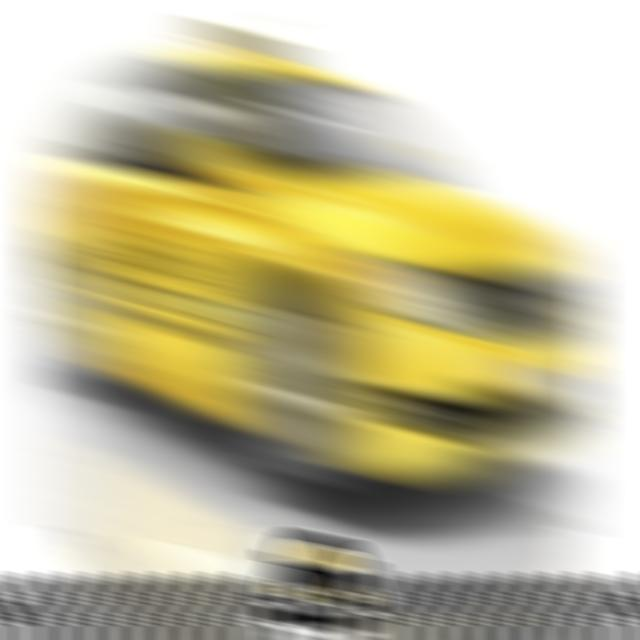Taxi: (29, 18, 598, 532)
